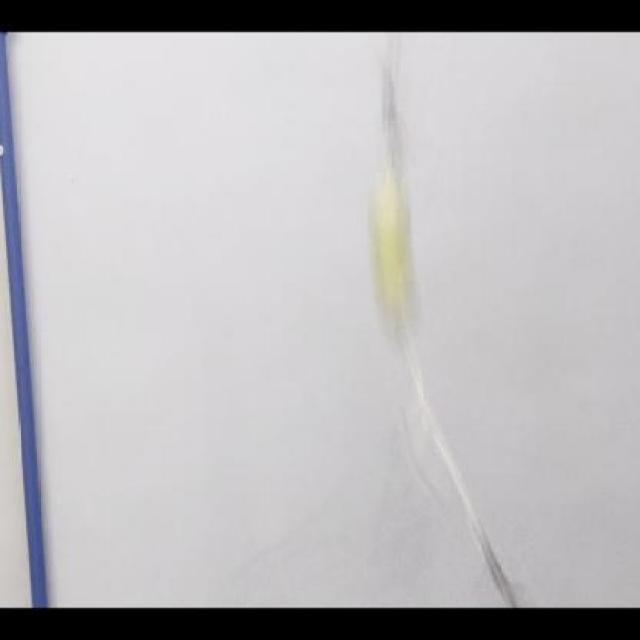baseball: (359, 165, 423, 322)
